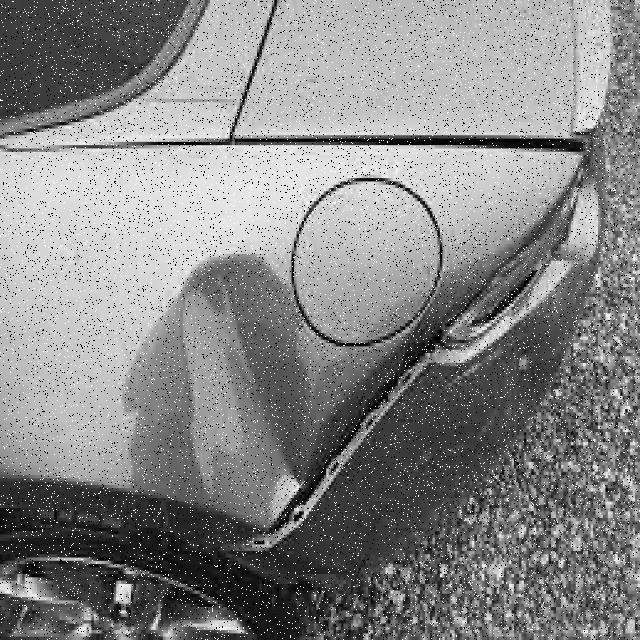quaterpanel-dent: (0, 141, 428, 535)
